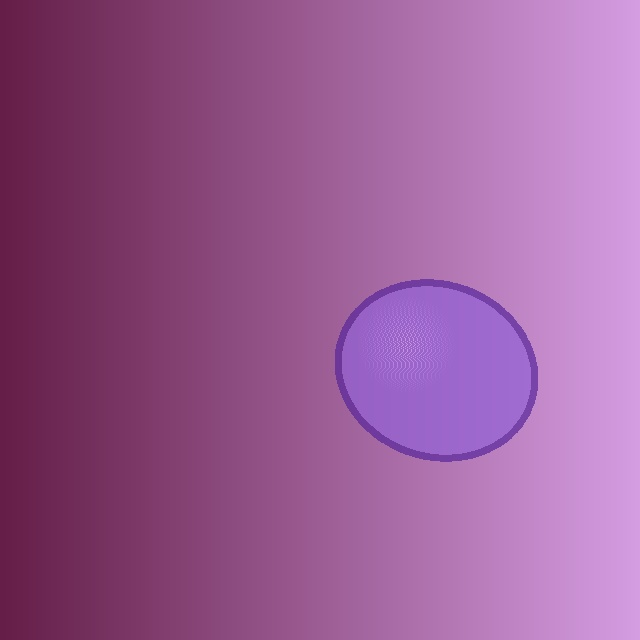lens: (338, 283, 534, 457)
